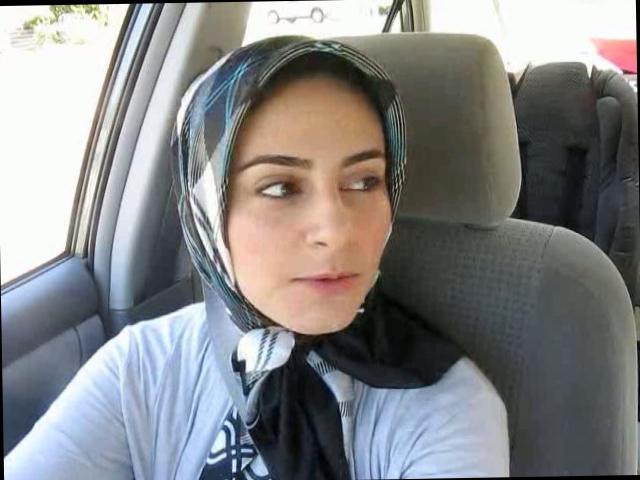eye_open: (253, 172, 306, 206), (334, 169, 384, 200)
face: (228, 132, 398, 335)
